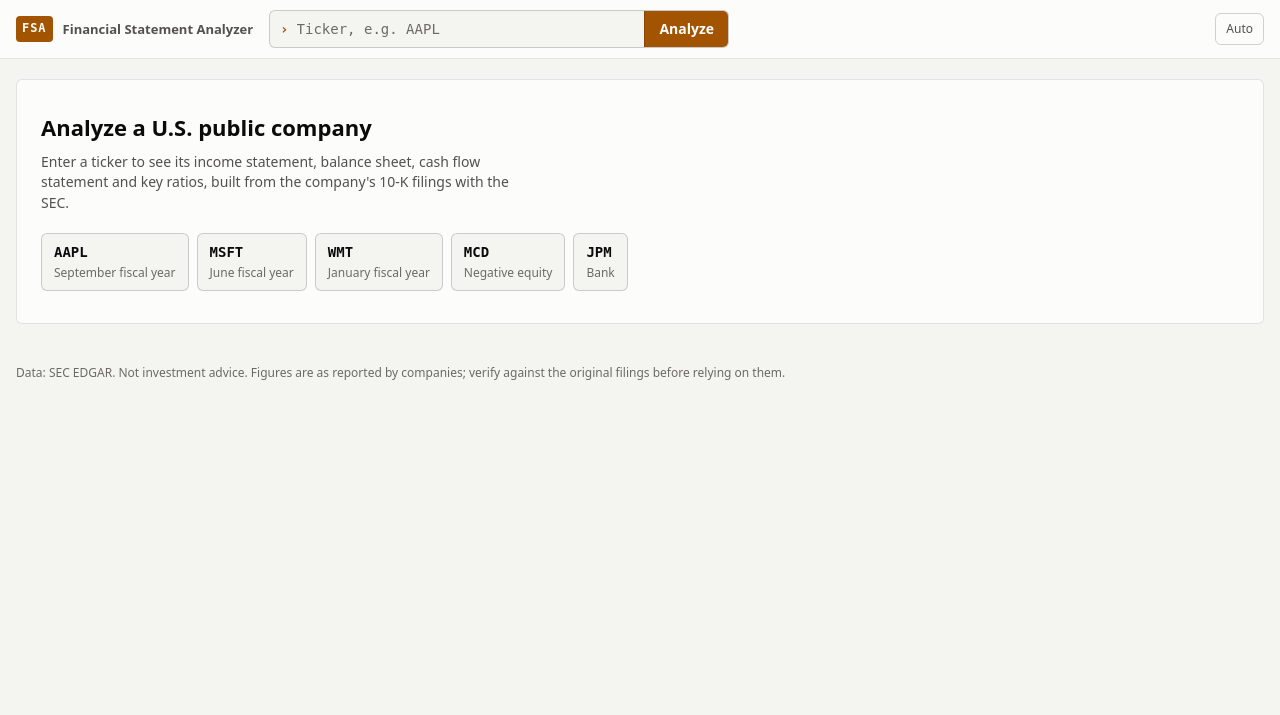
App › switches to the balance sheet tab
This screenshot has width=1280, height=715.
Type "EXMP" into the field named "Company ticker" at (466, 29), box [288,13,644,45]
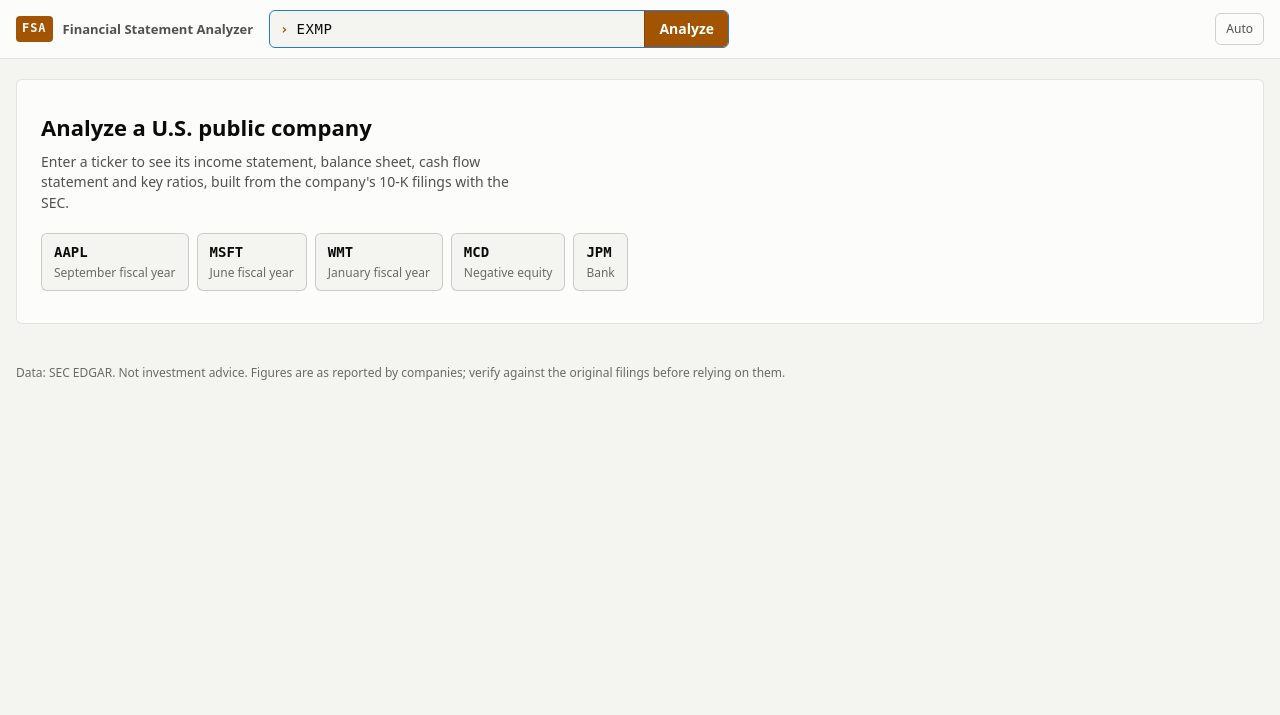
Click the button "Analyze" at (686, 29), box [644,11,728,47]
(page scrolled)
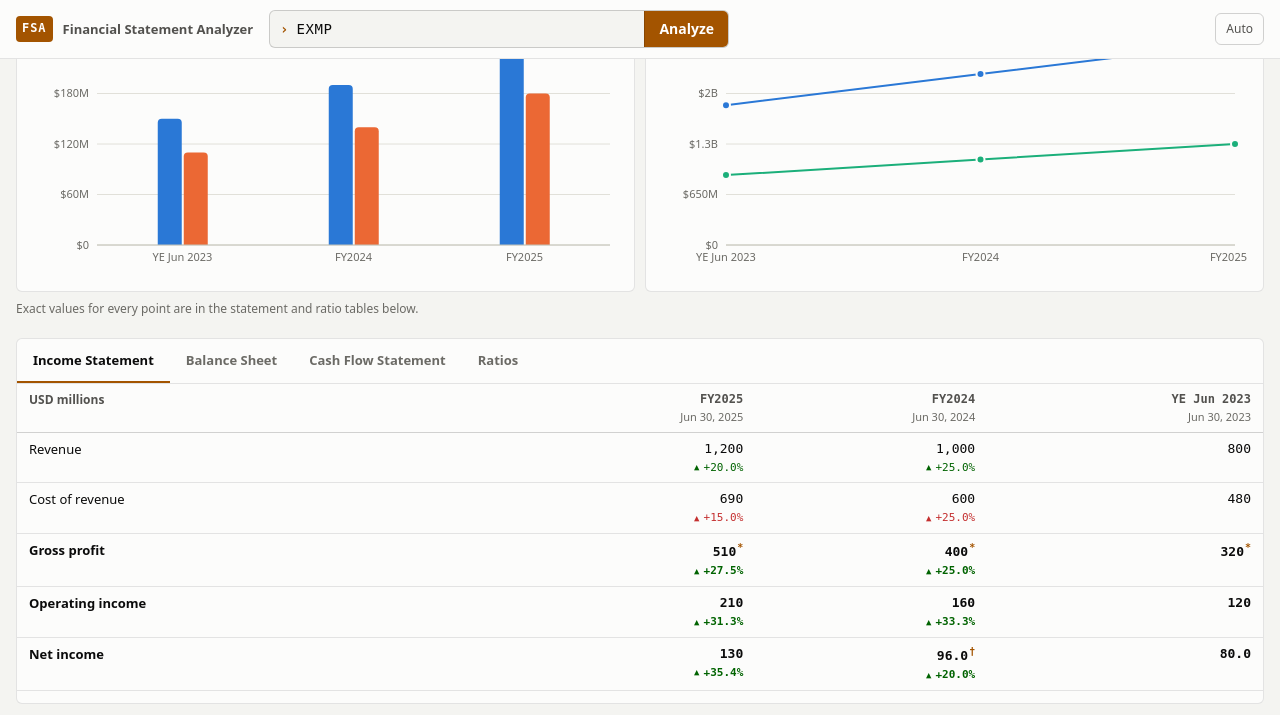
Click the tab "Balance Sheet" at (232, 361), box [170,338,293,383]
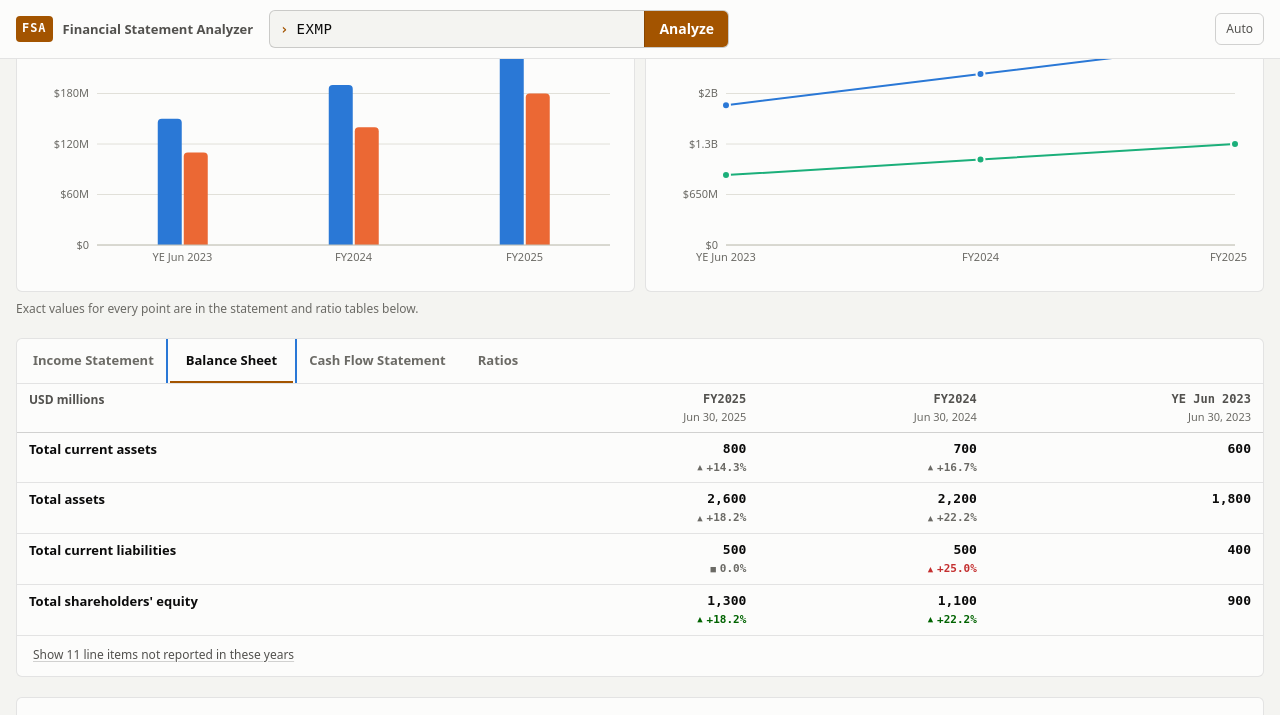
Check: the column heading "Total assets" is shown, box [17,484,528,534]
